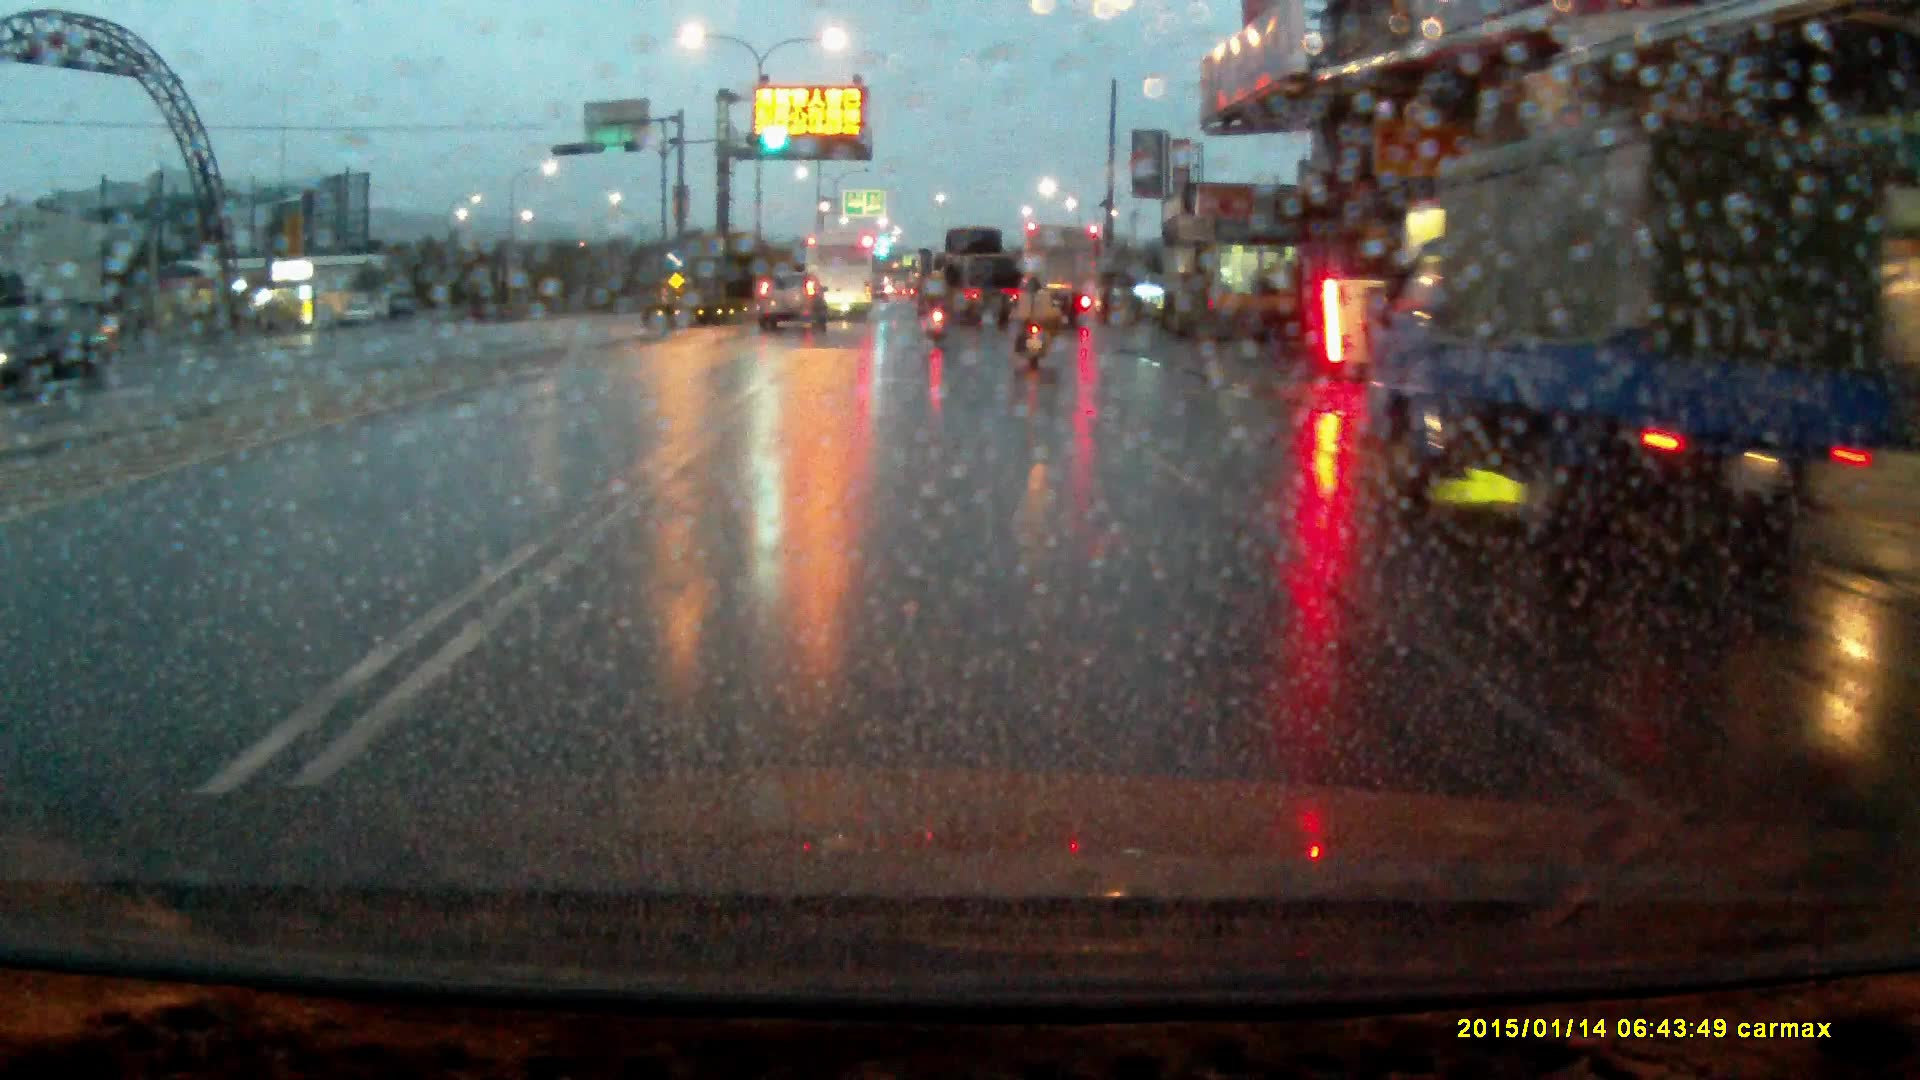rider: (1013, 270, 1051, 369), (926, 276, 950, 345)
vehicle: (1361, 107, 1831, 555), (933, 235, 1024, 343), (1, 324, 110, 404), (1024, 231, 1105, 330), (804, 240, 879, 330), (759, 279, 826, 340)
